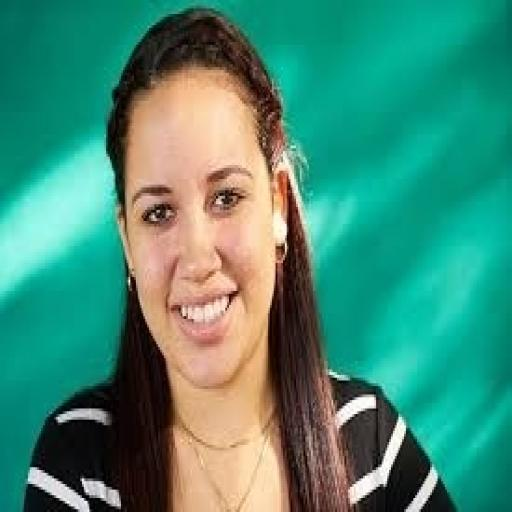laughing: (18, 3, 460, 509)
